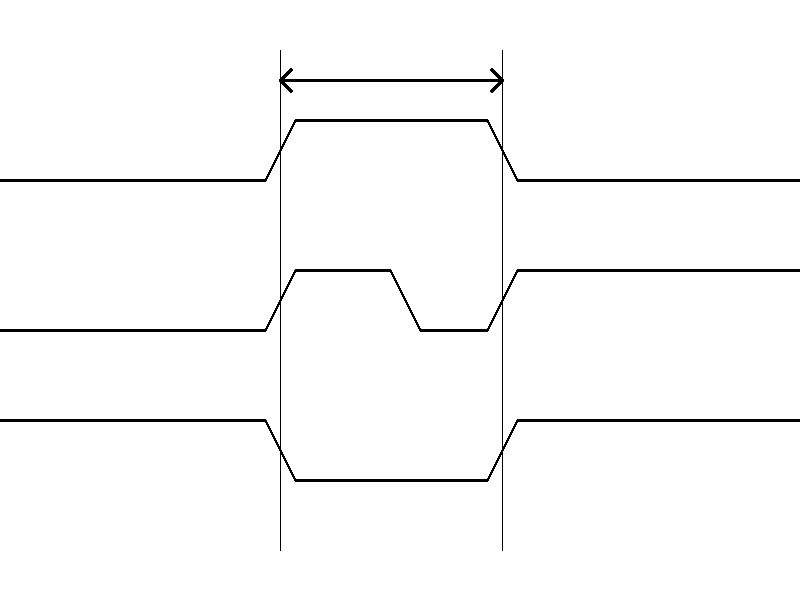double_arrow: (280, 65, 502, 95)
